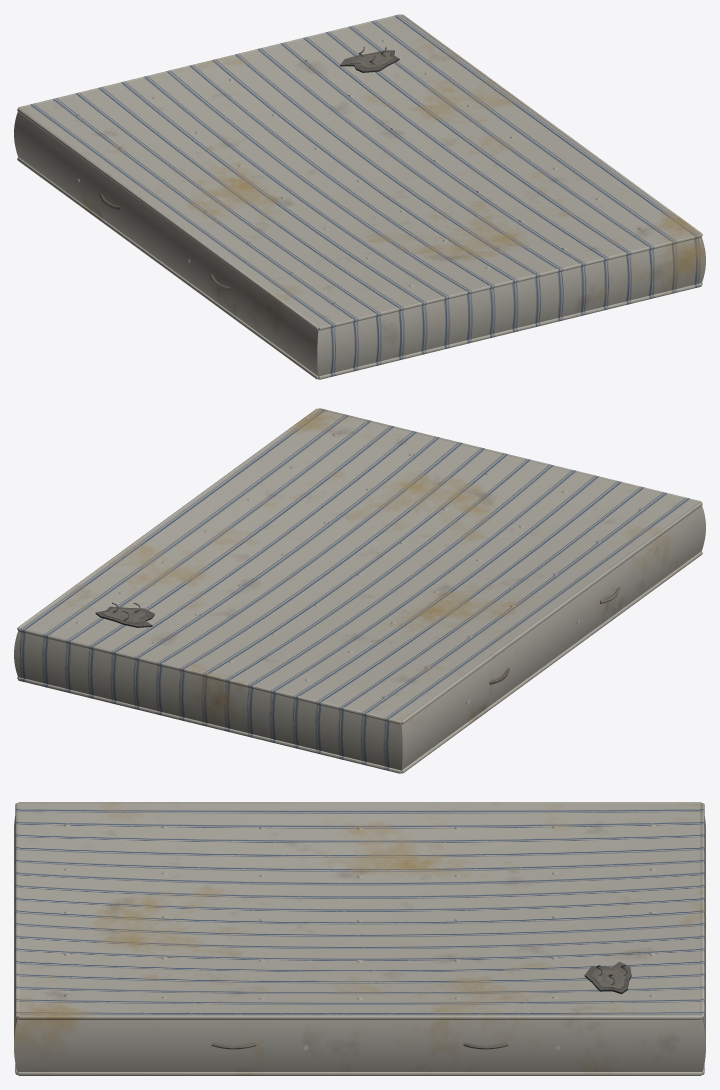
File: SM_Mattress_Stained.fbx
3 views of the same model, one above another, from view 1: azimuth 30°, elevation 25°; view 2: azimuth 150°, elevation 25°; view 3: azimuth 270°, elevation 25° (orthographic). The views are drawn at different scales.
Parts seen in each view (by area): view 1: SM_Mattress_Stained; view 2: SM_Mattress_Stained; view 3: SM_Mattress_Stained.
Boxes of the visible parts, bbox=[...] form: SM_Mattress_Stained: bbox=[14, 14, 705, 379]; SM_Mattress_Stained: bbox=[14, 408, 705, 773]; SM_Mattress_Stained: bbox=[14, 802, 705, 1075].
Size of the model in its own units: 1.46 by 0.2176 by 1.92.
Materials: 1 (1 with a texture image).
